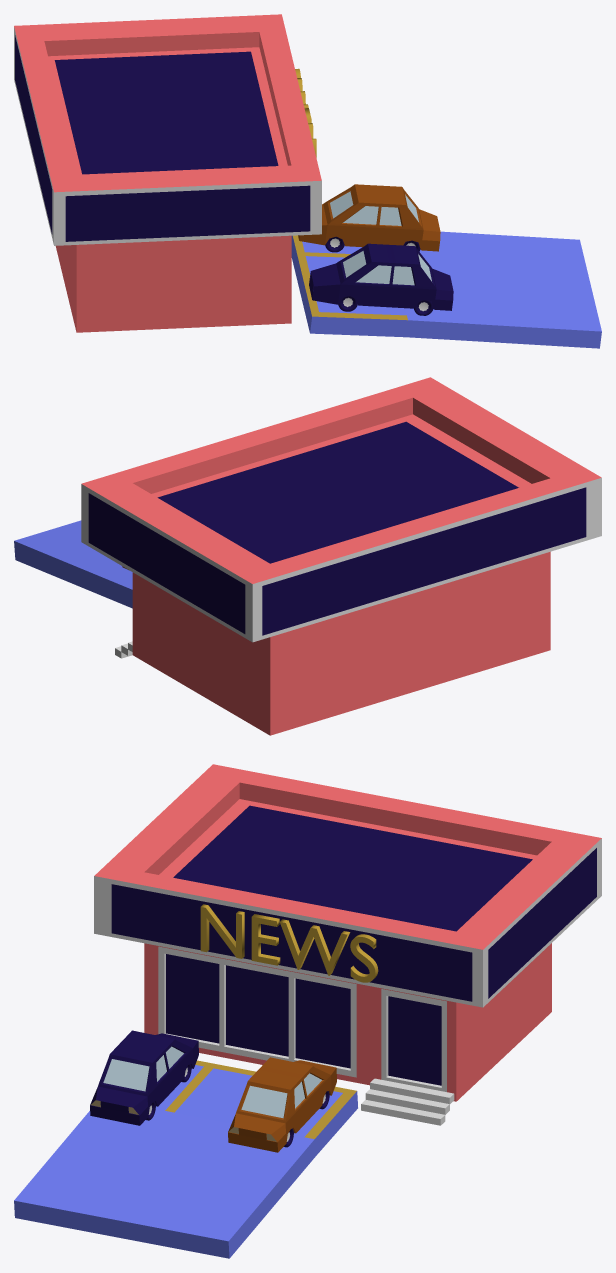
The model's file is news.glb.
3 renders of one model, top to bottom at view 1: azimuth 30°, elevation 25°; view 2: azimuth 150°, elevation 25°; view 3: azimuth 270°, elevation 25°, orthographic. The views are drawn at different scales.
Visible parts, largest first — view 1: NewsStand, Parking, ParkedCar, ParkedCar.001; view 2: NewsStand, Parking; view 3: NewsStand, Parking, ParkedCar, ParkedCar.001, Text, Stairs.
Part boxes in pixels (bbox=[...]): NewsStand: bbox=[14, 14, 321, 332]; Parking: bbox=[291, 231, 601, 348]; ParkedCar: bbox=[309, 243, 453, 315]; ParkedCar.001: bbox=[298, 184, 440, 252]; NewsStand: bbox=[81, 377, 601, 735]; Parking: bbox=[14, 520, 132, 608]; NewsStand: bbox=[94, 764, 601, 1101]; Parking: bbox=[14, 1060, 357, 1258]; ParkedCar: bbox=[90, 1030, 198, 1125]; ParkedCar.001: bbox=[228, 1057, 336, 1152]; Text: bbox=[200, 904, 378, 982]; Stairs: bbox=[361, 1078, 454, 1125].
Size of the model in its own units: 3.07 by 1.1 by 2.73.
